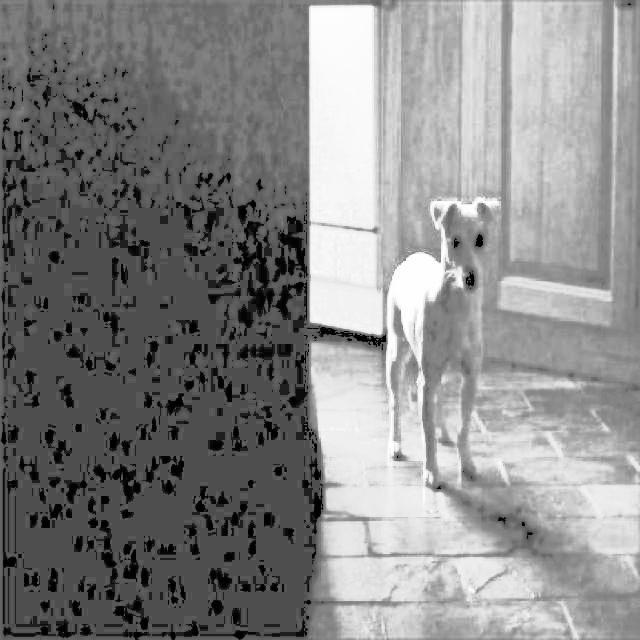Dog: (383, 194, 501, 497)
